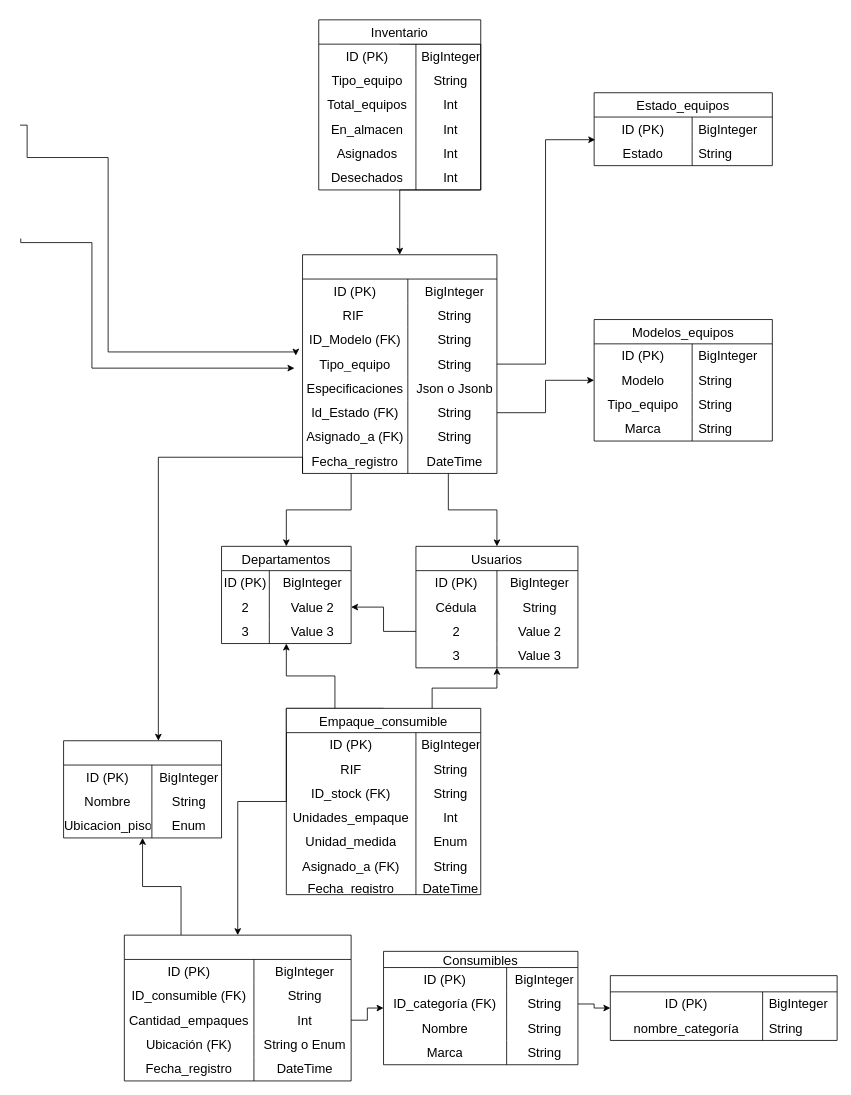
This 851x1095 diagram has some shape labels left out. The shapes that lost their labels are listed below. From the top down, each one's box as (x1, y1, x2, y2) in pixels, then its label:
(302, 254, 497, 473): Equipos
(63, 740, 222, 838): Almacenes
(124, 934, 351, 1081): Stock_Consumibles
(610, 975, 837, 1040): Categoría_Consumible
